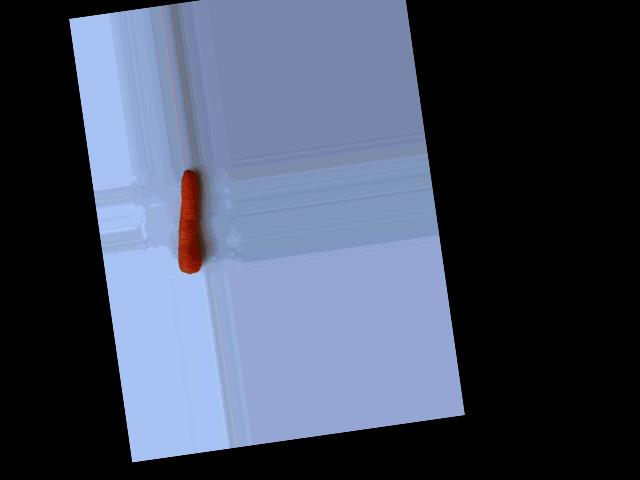carrot: (165, 169, 212, 275)
